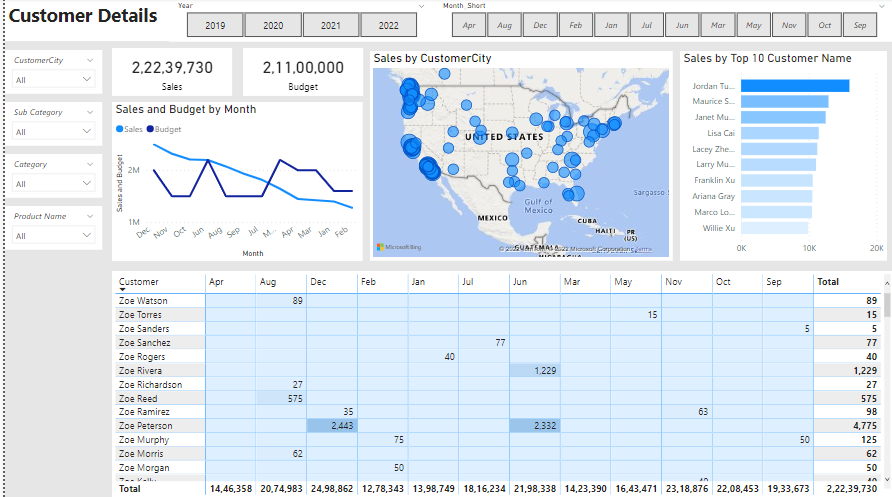

The dashboard page shown, as its layout file describes it:
{"tool":"powerbi","page":{"name":"Customer Details","canvas":[1280,720],"ordinal":1},"visuals":[{"type":"textbox","box":[0,0,1280.2,61.9],"z":0},{"type":"slicer","fields":{"Values":["DIM_Customer.CustomerCity"]},"box":[0,75,140,62.5],"z":1000},{"type":"slicer","fields":{"Values":["DIM_Product.Sub Category"]},"box":[0,150,140,62.5],"z":2000},{"type":"slicer","fields":{"Values":["DIM_Product.Product Category"]},"box":[0,225,140,62.5],"z":3000},{"type":"slicer","fields":{"Values":["DIM_Product.ProductName"]},"box":[0,300,140,62.5],"z":4000},{"type":"slicer","fields":{"Values":["DIM_Calendar.Year"]},"box":[236.2,0,381.2,62.5],"z":5000},{"type":"slicer","fields":{"Values":["DIM_Calendar.Month_Short"]},"box":[617.5,0,662.5,62.5],"z":6000},{"type":"barChart","title":"Sales by Top 10 Customer Name","fields":{"Y":["Key Measures.Sales"],"Category":["DIM_Customer.Full Name"]},"box":[972,76.3,298.1,302.4],"z":7000},{"type":"pivotTable","fields":{"Rows":["DIM_Customer.Full Name"],"Values":["Key Measures.Sales"],"Columns":["DIM_Calendar.Month_Short"]},"box":[154.1,393.1,1126.1,326.9],"z":8000},{"type":"map","fields":{"Category":["DIM_Customer.CustomerCity"],"Size":["Key Measures.Sales"]},"box":[525.6,76.3,436.3,302.4],"z":9000},{"type":"lineChart","fields":{"Category":["DIM_Calendar.Month_Short"],"Y":["Key Measures.Sales","Key Measures.Budget Amount"]},"box":[154.1,149.8,361.4,229],"z":10000},{"type":"card","fields":{"Values":["Key Measures.Sales"]},"box":[154.1,72,172.8,69.1],"z":11000},{"type":"card","fields":{"Values":["Key Measures.Budget Amount"]},"box":[342.7,72,172.8,69.1],"z":12000}]}

Visuals, with their boxes in screenshot pixels (x1, y1, x2, y2), scaled from the page's 1280x720 canvas onto the 892x497 screenshot:
textbox: crop(0, 0, 891, 43)
slicer - DIM_Customer.CustomerCity: crop(0, 52, 98, 95)
slicer - DIM_Product.Sub Category: crop(0, 104, 98, 147)
slicer - DIM_Product.Product Category: crop(0, 155, 98, 198)
slicer - DIM_Product.ProductName: crop(0, 207, 98, 250)
slicer - DIM_Calendar.Year: crop(165, 0, 430, 43)
slicer - DIM_Calendar.Month_Short: crop(430, 0, 891, 43)
"Sales by Top 10 Customer Name" barChart: crop(677, 53, 885, 261)
pivotTable - DIM_Customer.Full Name x Key Measures.Sales: crop(107, 271, 891, 496)
map - DIM_Customer.CustomerCity x Key Measures.Sales: crop(366, 53, 670, 261)
lineChart - DIM_Calendar.Month_Short x Key Measures.Sales: crop(107, 103, 359, 261)
card - Key Measures.Sales: crop(107, 50, 228, 97)
card - Key Measures.Budget Amount: crop(239, 50, 359, 97)
